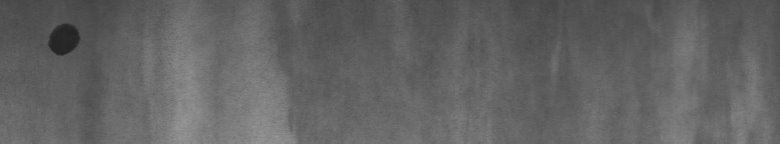fi: (44, 16, 87, 64)
